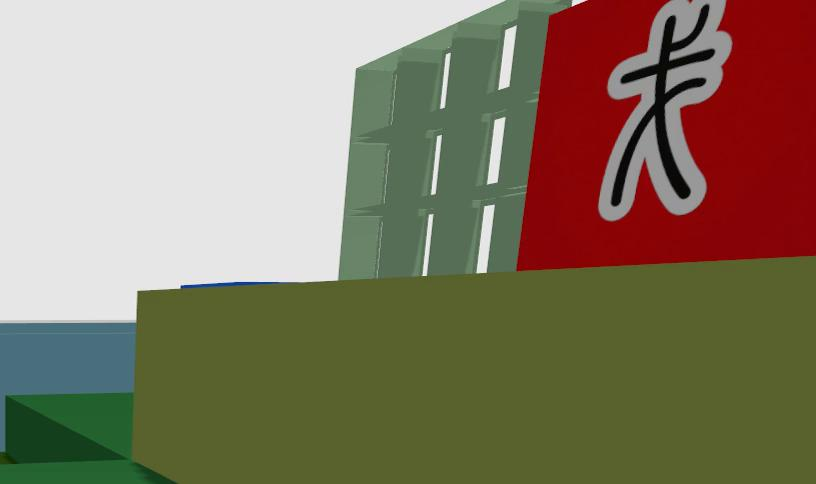KFS_FAKE: (517, 0, 815, 270), (598, 0, 732, 220)
